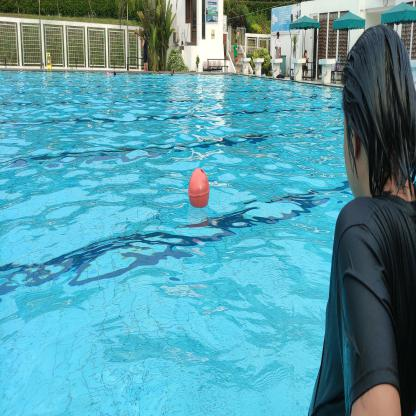red_buoy: (188, 167, 210, 210)
